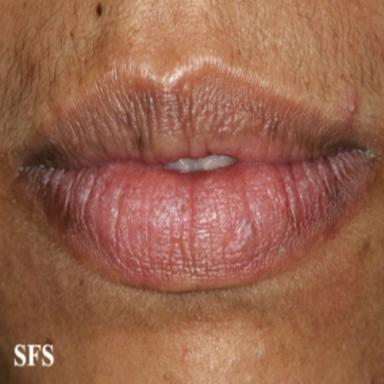lichen: (101, 159, 292, 269)
